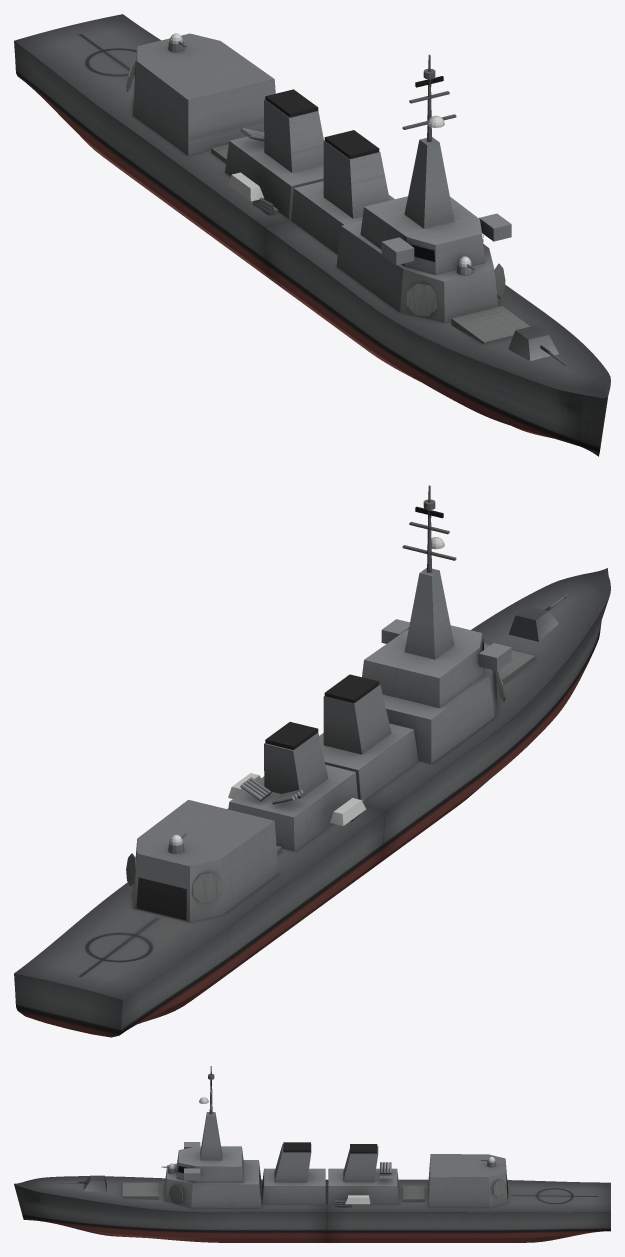
Rendered from destroyer.glb.
3 renders of one model, top to bottom at view 1: azimuth 30°, elevation 25°; view 2: azimuth 150°, elevation 25°; view 3: azimuth 270°, elevation 25°, orthographic. The views are drawn at different scales.
Parts seen in each view (by area): view 1: Fore_Hull, Aft_Hull, Turret; view 2: Aft_Hull, Fore_Hull, Turret; view 3: Fore_Hull, Aft_Hull, Turret.
Part boxes in pixels (x1,y1,x2,y2): Fore_Hull: (264, 54, 610, 456); Aft_Hull: (14, 14, 323, 285); Turret: (508, 325, 558, 361); Aft_Hull: (14, 722, 385, 1037); Fore_Hull: (319, 485, 610, 869); Turret: (508, 606, 558, 641); Fore_Hull: (14, 1066, 326, 1242); Aft_Hull: (327, 1144, 610, 1242); Turret: (83, 1175, 106, 1192).
Size of the model in its own units: 21.64 by 51.5 by 165.
Materials: 1 (1 with a texture image).
